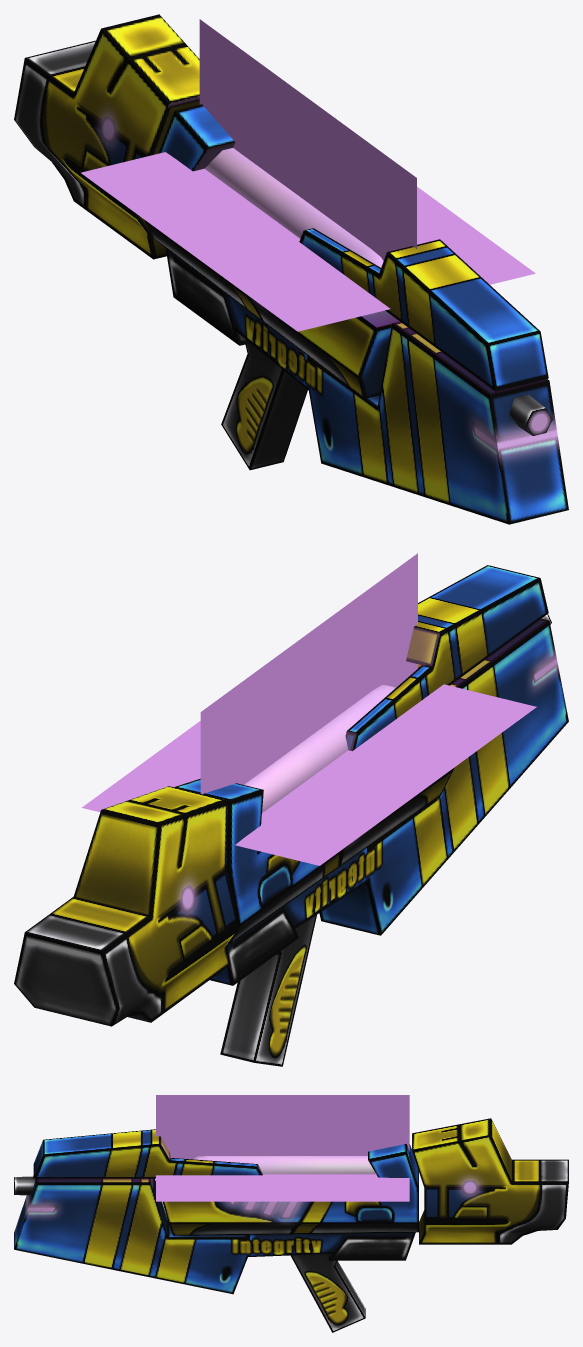
The model's file is weapon_auto_08.FBX.
The picture shows the model from 3 angles, top to bottom: view 1: azimuth 30°, elevation 25°; view 2: azimuth 150°, elevation 25°; view 3: azimuth 270°, elevation 25°; orthographic projection. The views are drawn at different scales.
Parts seen in each view (by area): view 1: weapon_auto_08, weapon_auto_08_b; view 2: weapon_auto_08, weapon_auto_08_b; view 3: weapon_auto_08, weapon_auto_08_b.
Boxes of the visible parts, bbox=[...] form: weapon_auto_08: bbox=[14, 14, 568, 524]; weapon_auto_08_b: bbox=[81, 19, 535, 331]; weapon_auto_08: bbox=[14, 565, 568, 1066]; weapon_auto_08_b: bbox=[81, 553, 536, 865]; weapon_auto_08: bbox=[14, 1118, 568, 1332]; weapon_auto_08_b: bbox=[156, 1095, 409, 1201].
Size of the model in its own units: 54.17 by 86.68 by 187.
